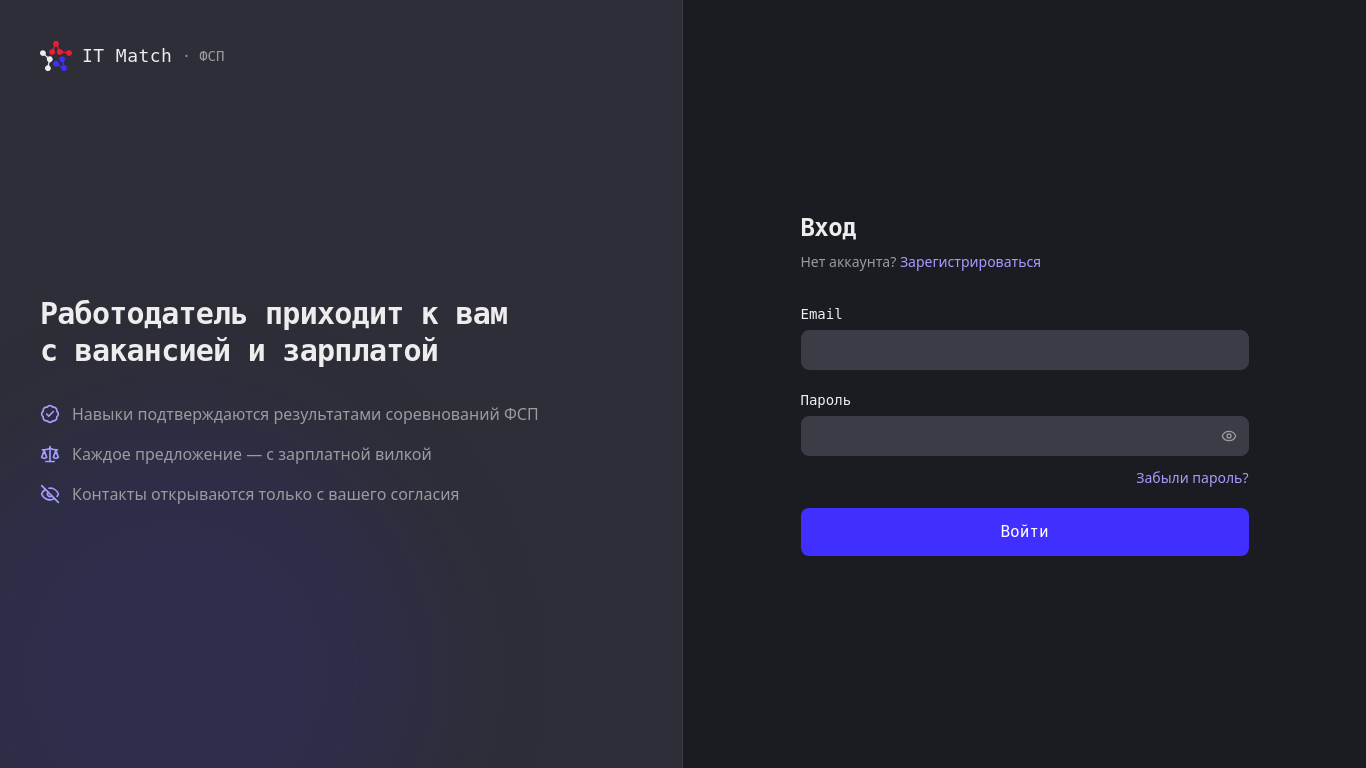
admin two-factor login › offers to start over when the login step expired
This screenshot has width=1366, height=768.
Step 1. Type "admin@example.org" into the field labelled "Email" → (1024, 350), box left=800, top=330, right=1248, bottom=370
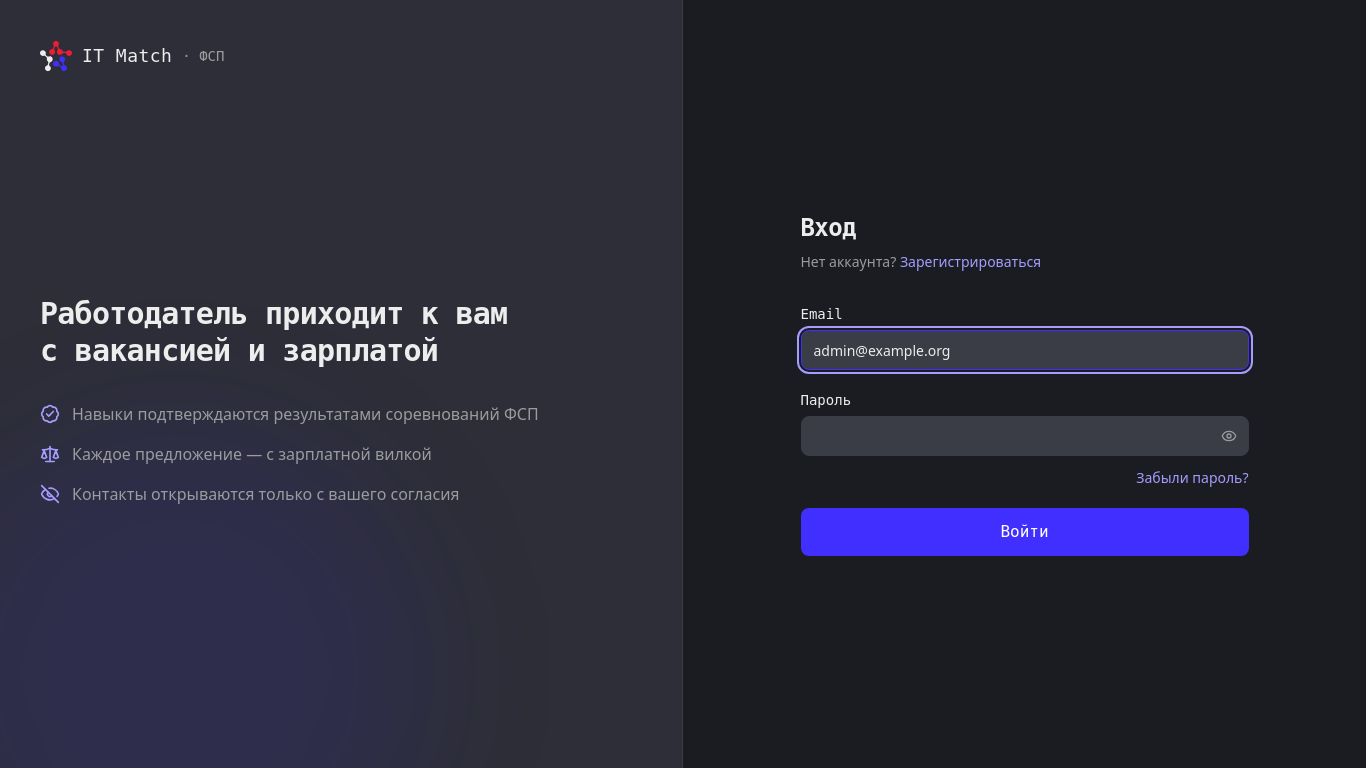
Step 2. Type "Str0ng-pass-42" into the password field labelled "Пароль" → (1024, 436), box left=800, top=416, right=1248, bottom=456
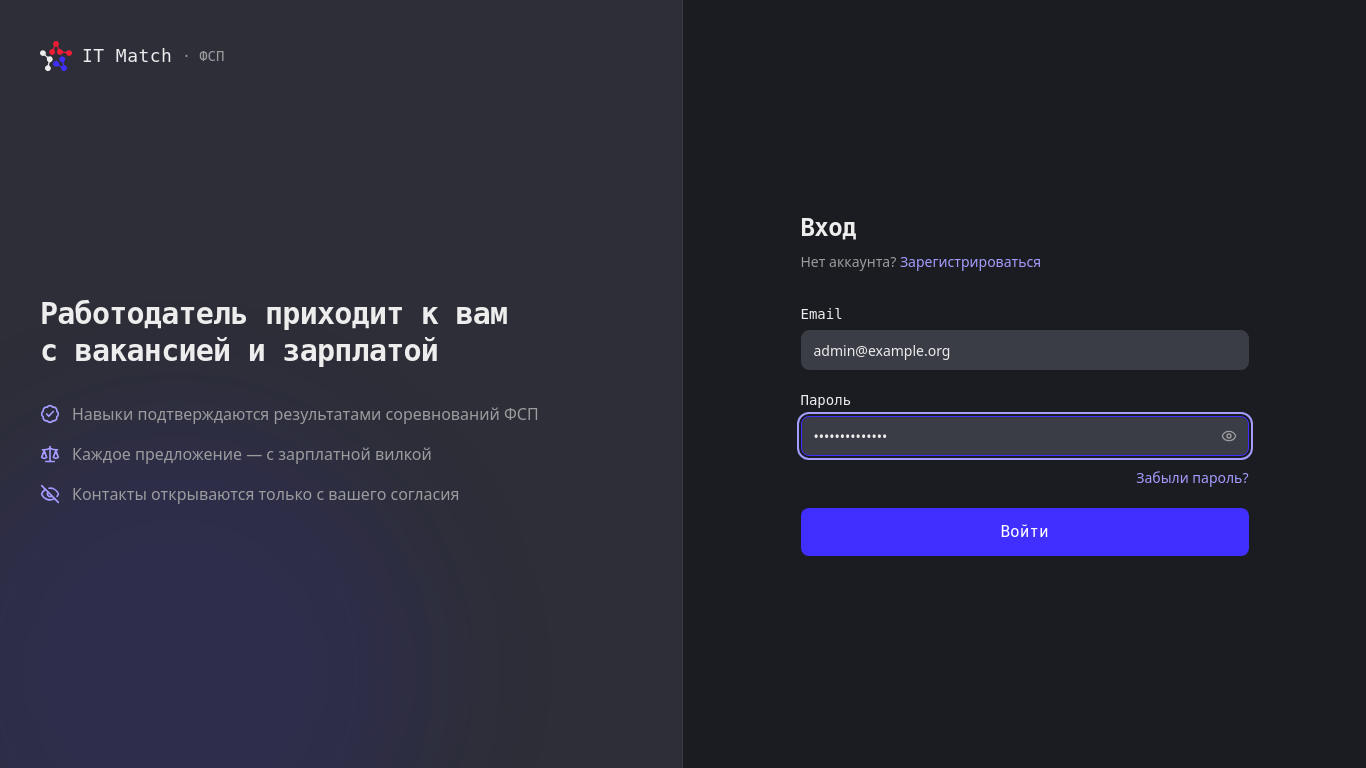
Step 3. Click the button "Войти" → (1024, 532), box left=800, top=508, right=1248, bottom=556
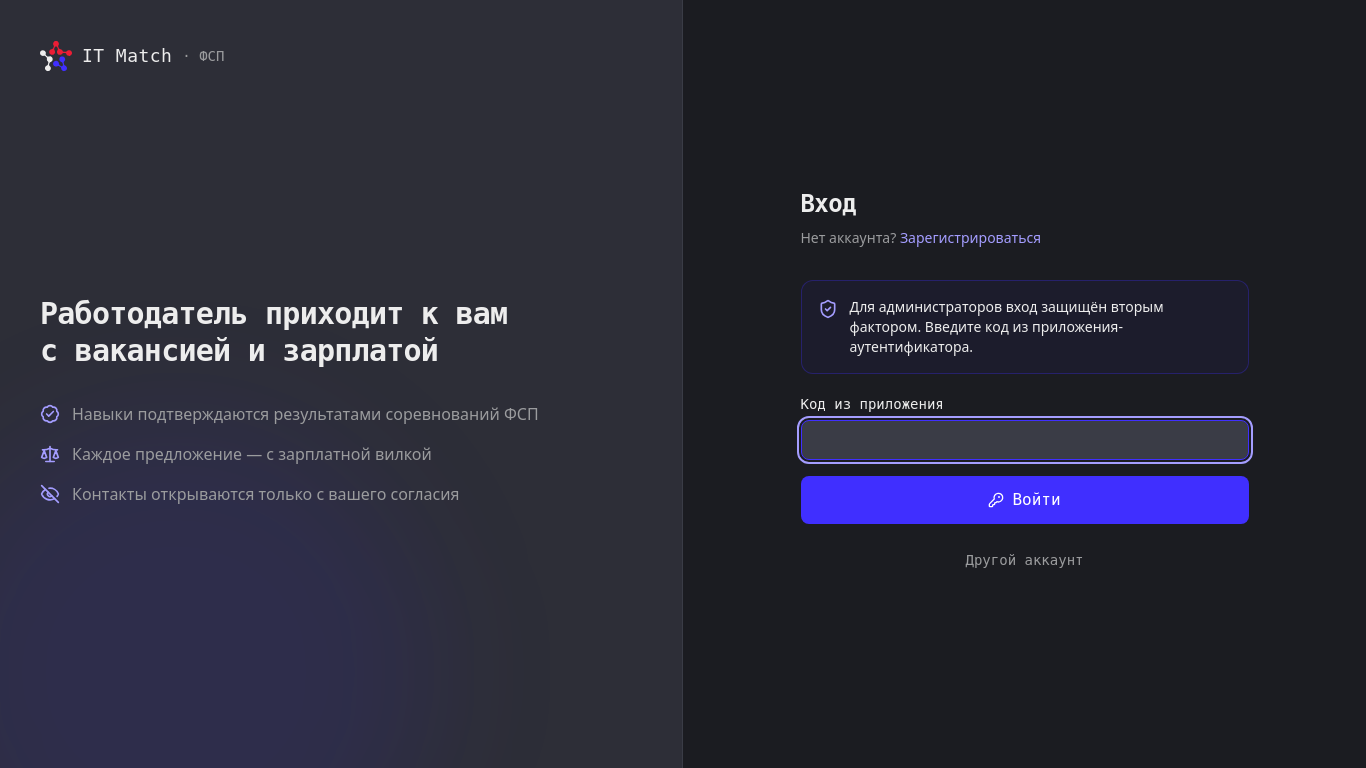
Step 4. Type "654321" into the field labelled "Код из приложения" → (1024, 440), box left=800, top=420, right=1248, bottom=460
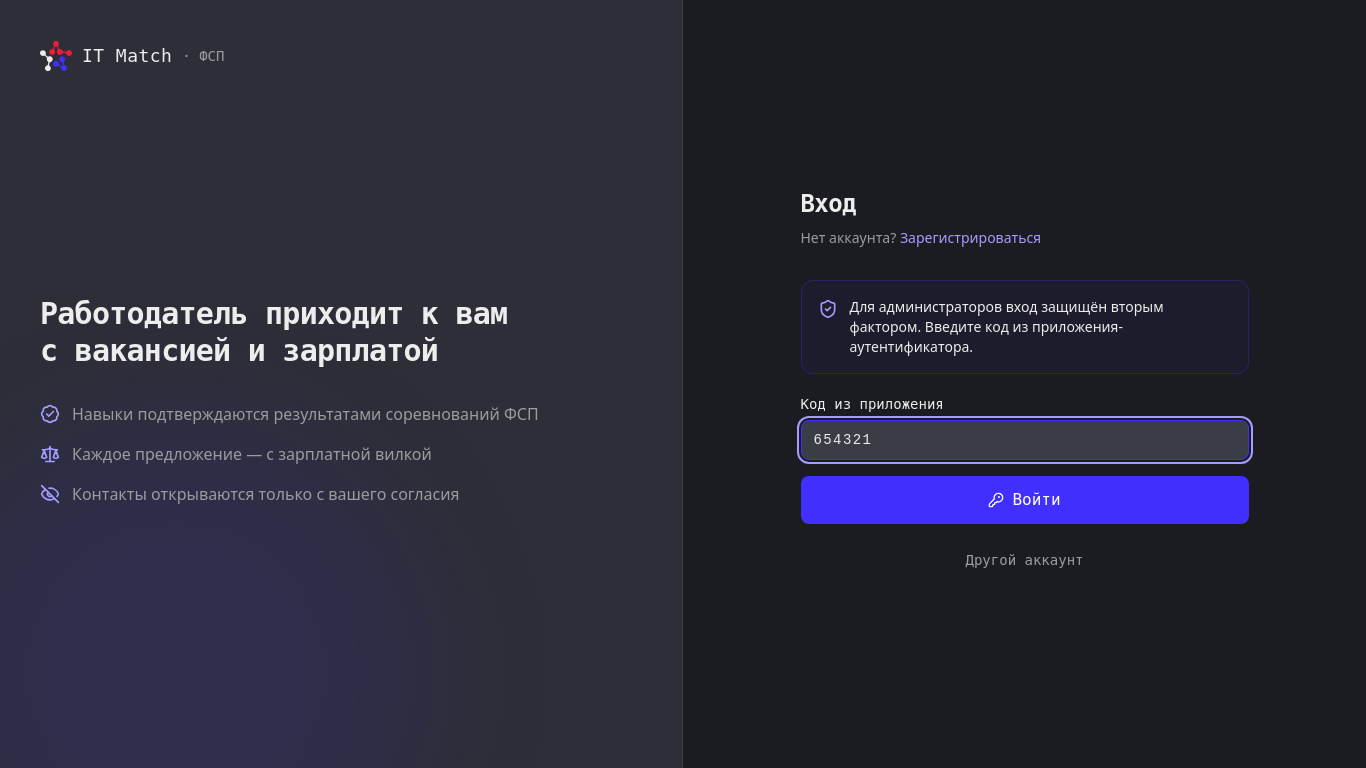
Step 5. Click the button "Войти" → (1024, 500), box left=800, top=476, right=1248, bottom=524
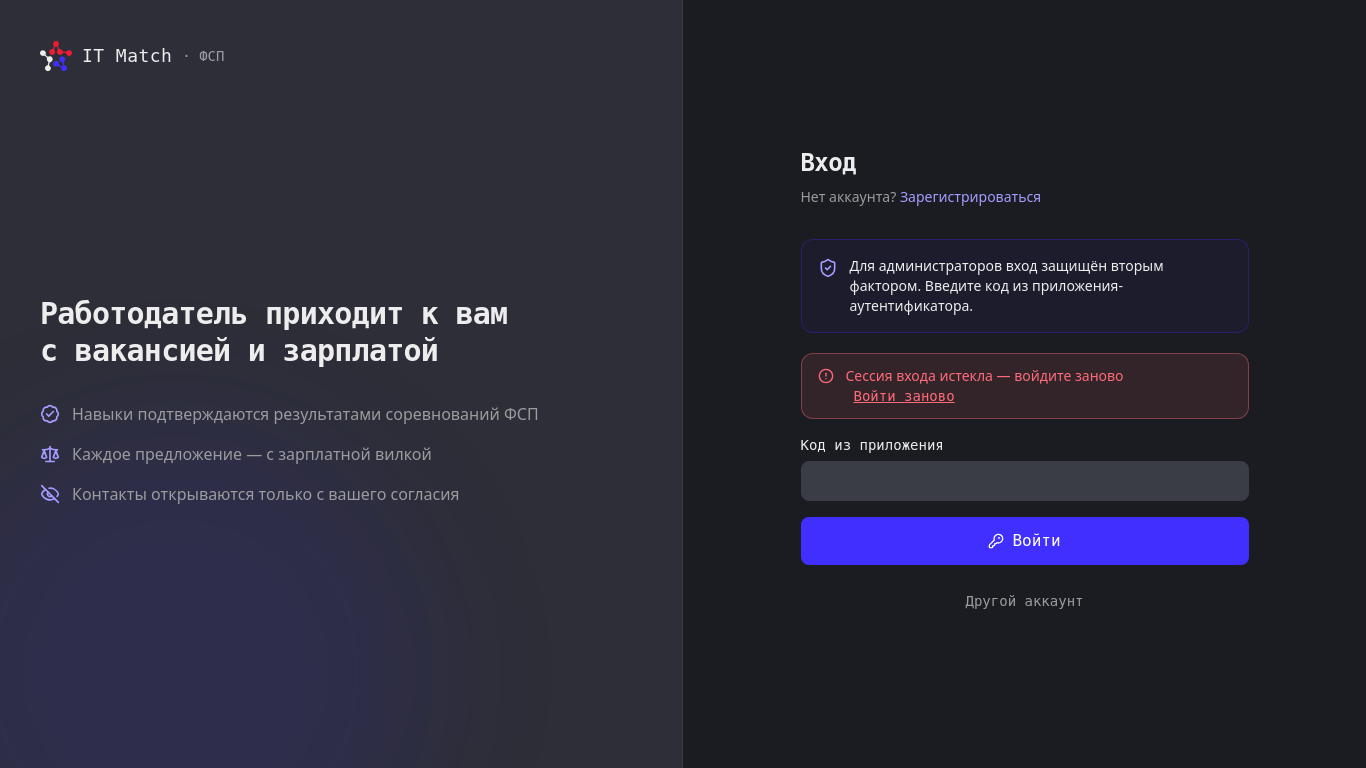
Step 6. Click the button "Войти заново" → (904, 396), box left=854, top=386, right=955, bottom=406
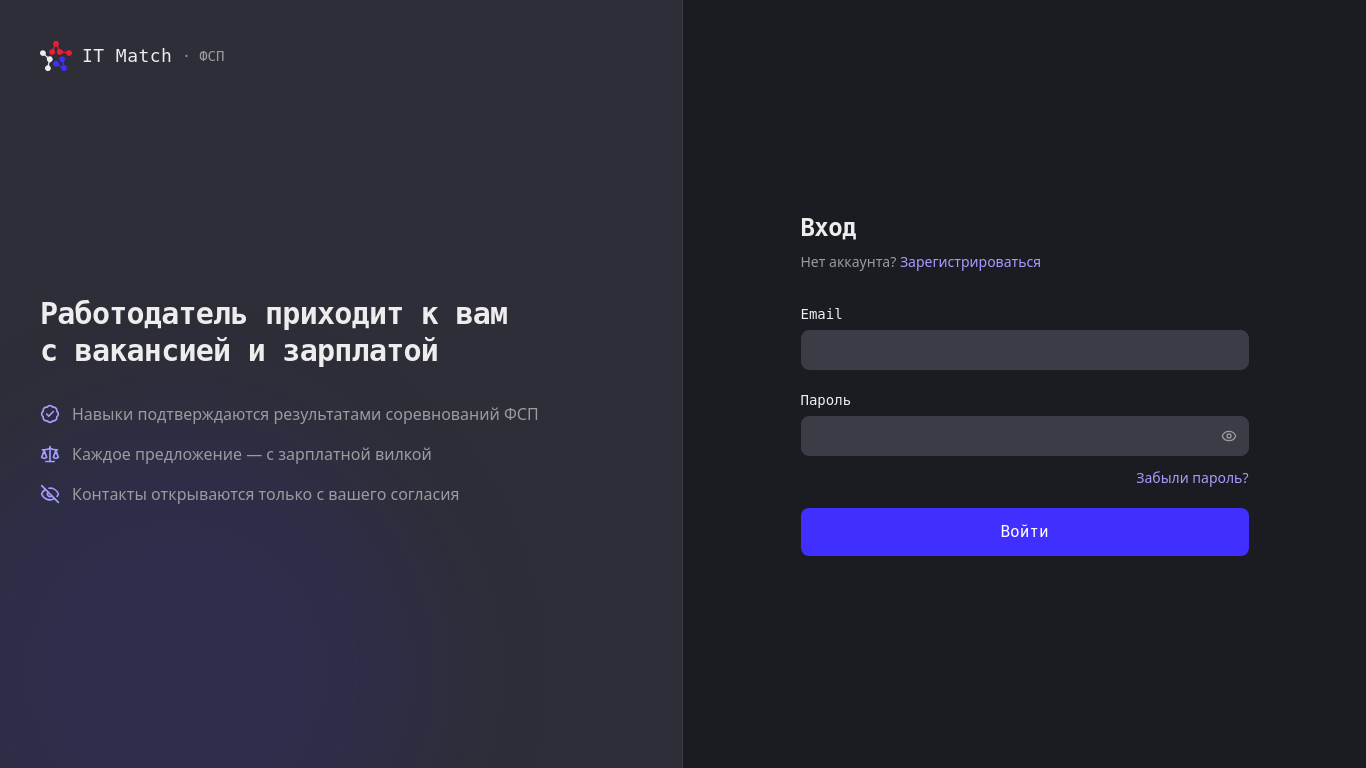
Expected: the password field labelled "Пароль" is shown, left=800, top=416, right=1248, bottom=456
